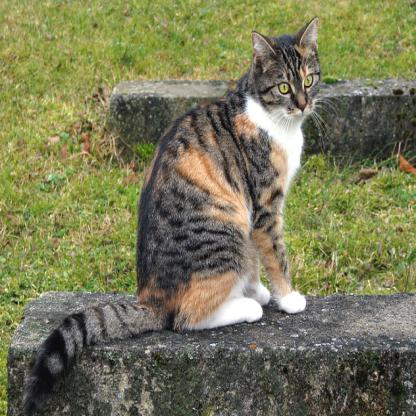cat: (20, 16, 322, 415)
